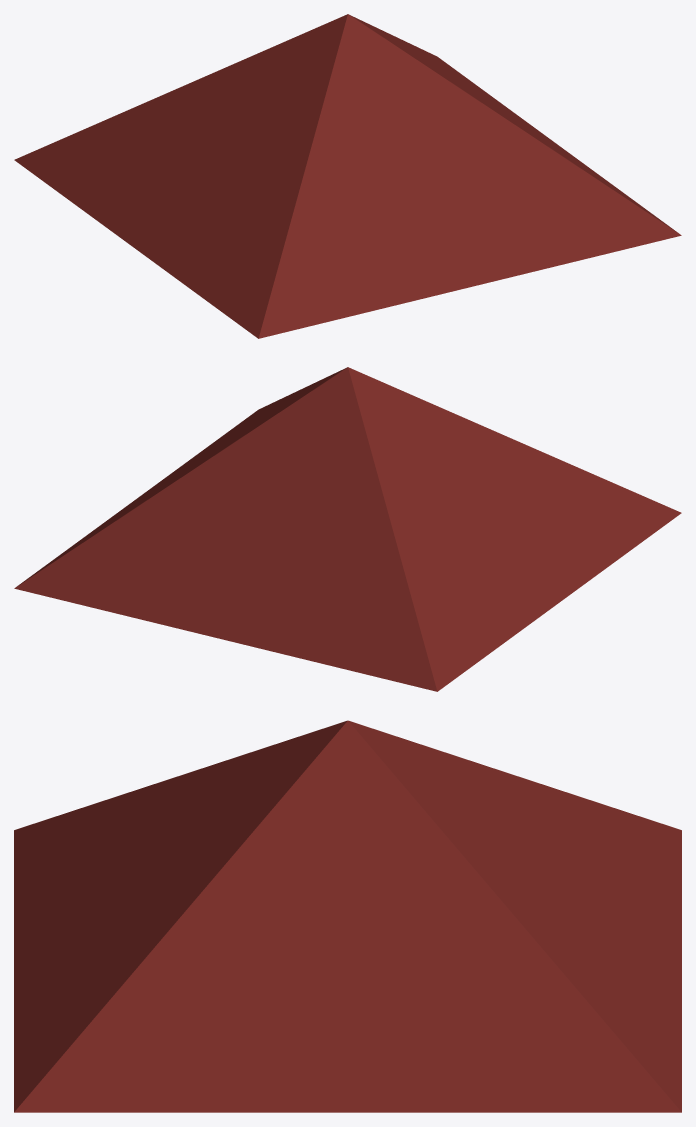
File: roof.fbx
The picture shows the model from 3 angles, top to bottom: view 1: azimuth 30°, elevation 25°; view 2: azimuth 150°, elevation 25°; view 3: azimuth 270°, elevation 25°; orthographic projection. The views are drawn at different scales.
Visible parts, largest first — view 1: Roof; view 2: Roof; view 3: Roof.
Boxes of the visible parts, x1=… form: Roof: x1=14, y1=14, x2=681, y2=338; Roof: x1=14, y1=367, x2=681, y2=691; Roof: x1=14, y1=720, x2=681, y2=1112.
Bounding box in the file's own units: 10.25 × 4.25 × 10.25.
